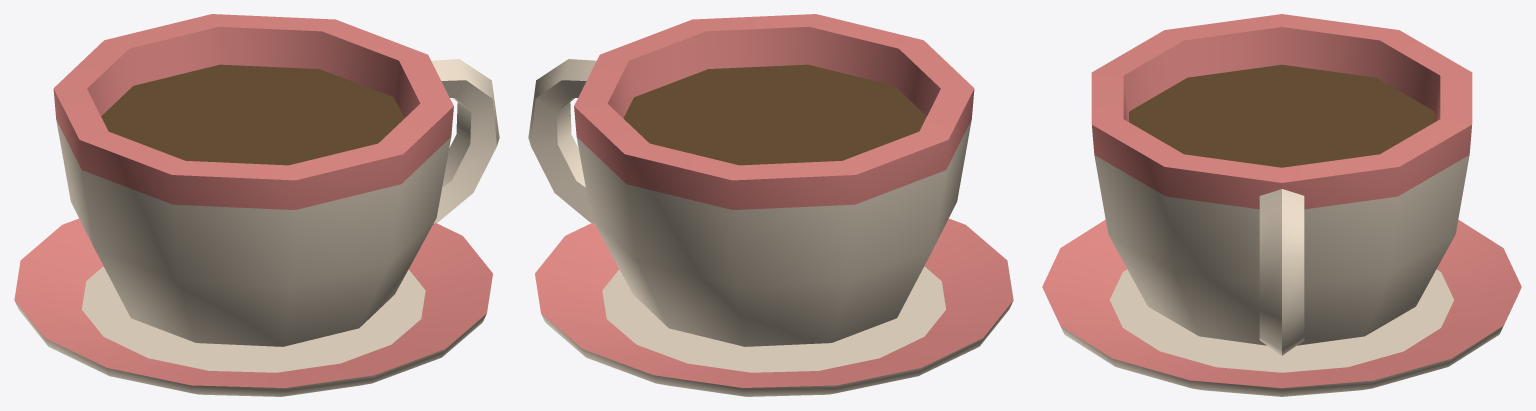
File: teacup.fbx
3 renders of one model, left to right at view 1: azimuth 30°, elevation 25°; view 2: azimuth 150°, elevation 25°; view 3: azimuth 270°, elevation 25°, orthographic.
Parts seen in each view (by area): view 1: teacup, tea_plate; view 2: teacup, tea_plate; view 3: teacup, tea_plate.
Boxes of the visible parts, x1,y1,x2,y2 form: teacup: (53, 14, 499, 346); tea_plate: (14, 218, 492, 396); teacup: (528, 14, 974, 346); tea_plate: (535, 218, 1013, 396); teacup: (1091, 14, 1472, 355); tea_plate: (1042, 219, 1521, 396).
Bounding box in the file's own units: 3.29 × 1.47 × 3.03.
